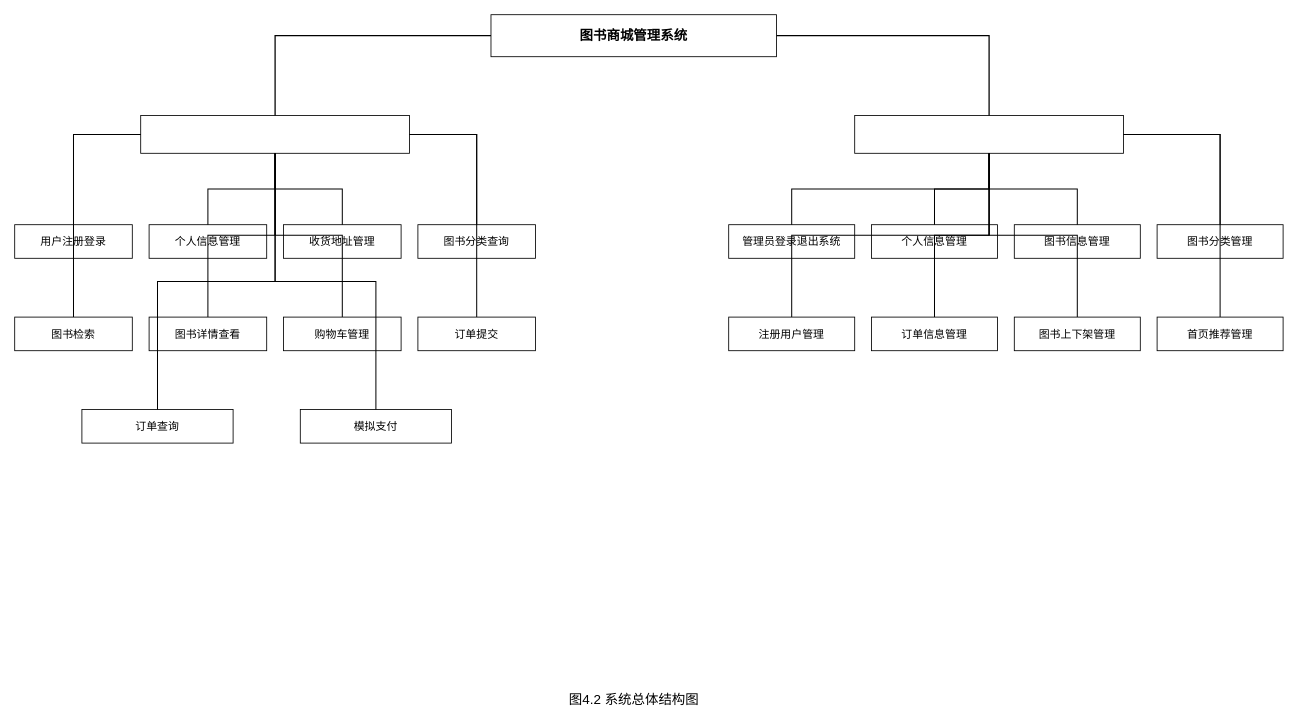
Image size: 1298x727. Some labels were removed from this diagram. Here are the shapes that lost their labels. From the top down, the centre of each, then its label:
(x=275, y=134): 前台功能模块
(x=989, y=134): 后台功能模块
